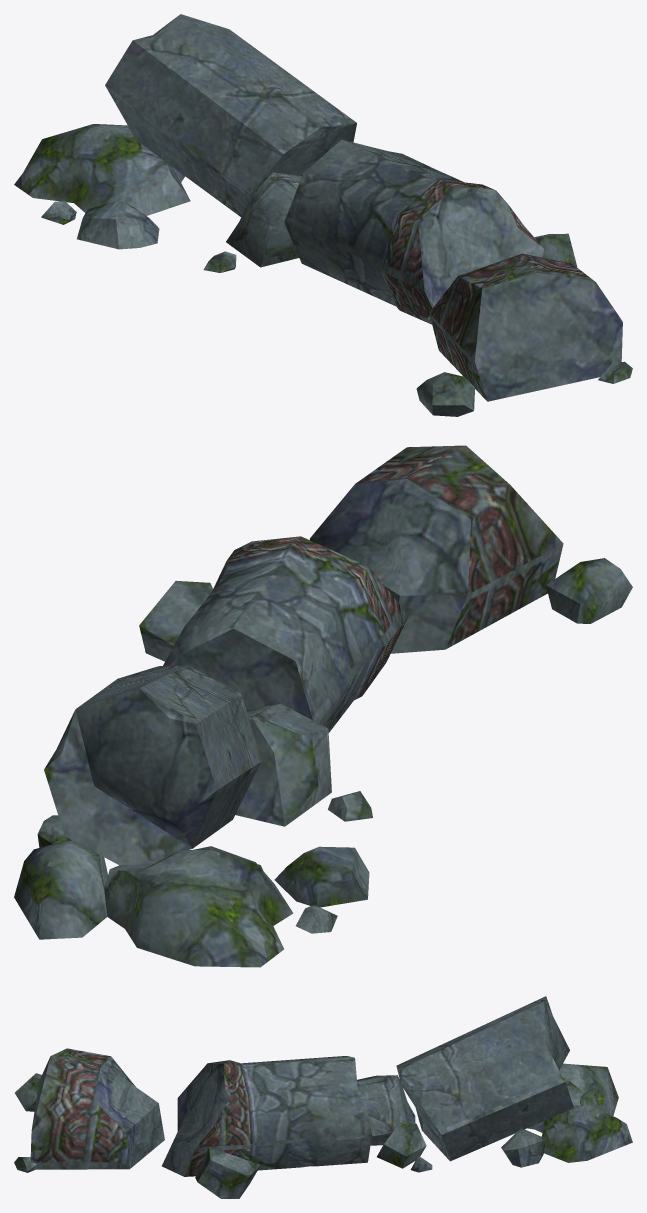
Rendered from 5004_Item_zhuzi_2.FBX.
3 renders of one model, top to bottom at view 1: azimuth 30°, elevation 25°; view 2: azimuth 150°, elevation 25°; view 3: azimuth 270°, elevation 25°, orthographic. The views are drawn at different scales.
Visible parts, largest first — view 1: 5004_Item_zhuzi_2; view 2: 5004_Item_zhuzi_2; view 3: 5004_Item_zhuzi_2.
Part boxes in pixels (box(x1,y1,x2,y2)): 5004_Item_zhuzi_2: box(14, 14, 632, 416); 5004_Item_zhuzi_2: box(14, 445, 632, 967); 5004_Item_zhuzi_2: box(14, 996, 632, 1198).
Size of the model in its own units: 64567 by 30641 by 130316.
